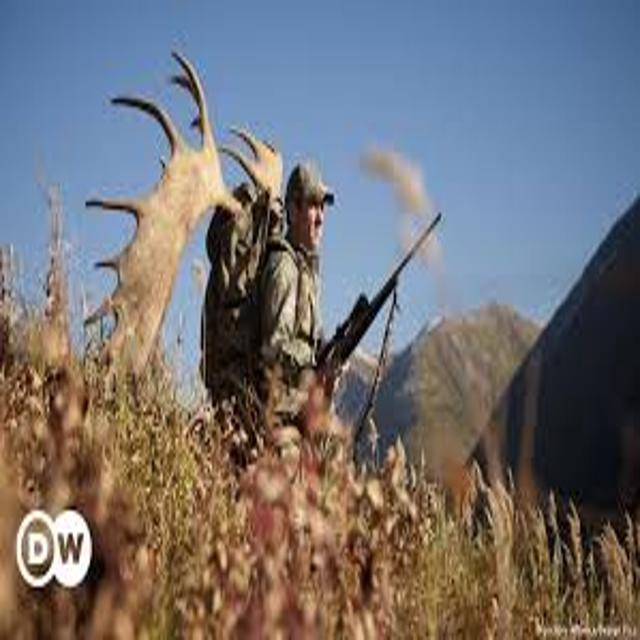backpack: (175, 163, 306, 430)
gun: (278, 190, 463, 473)
poacher: (150, 131, 401, 504)
